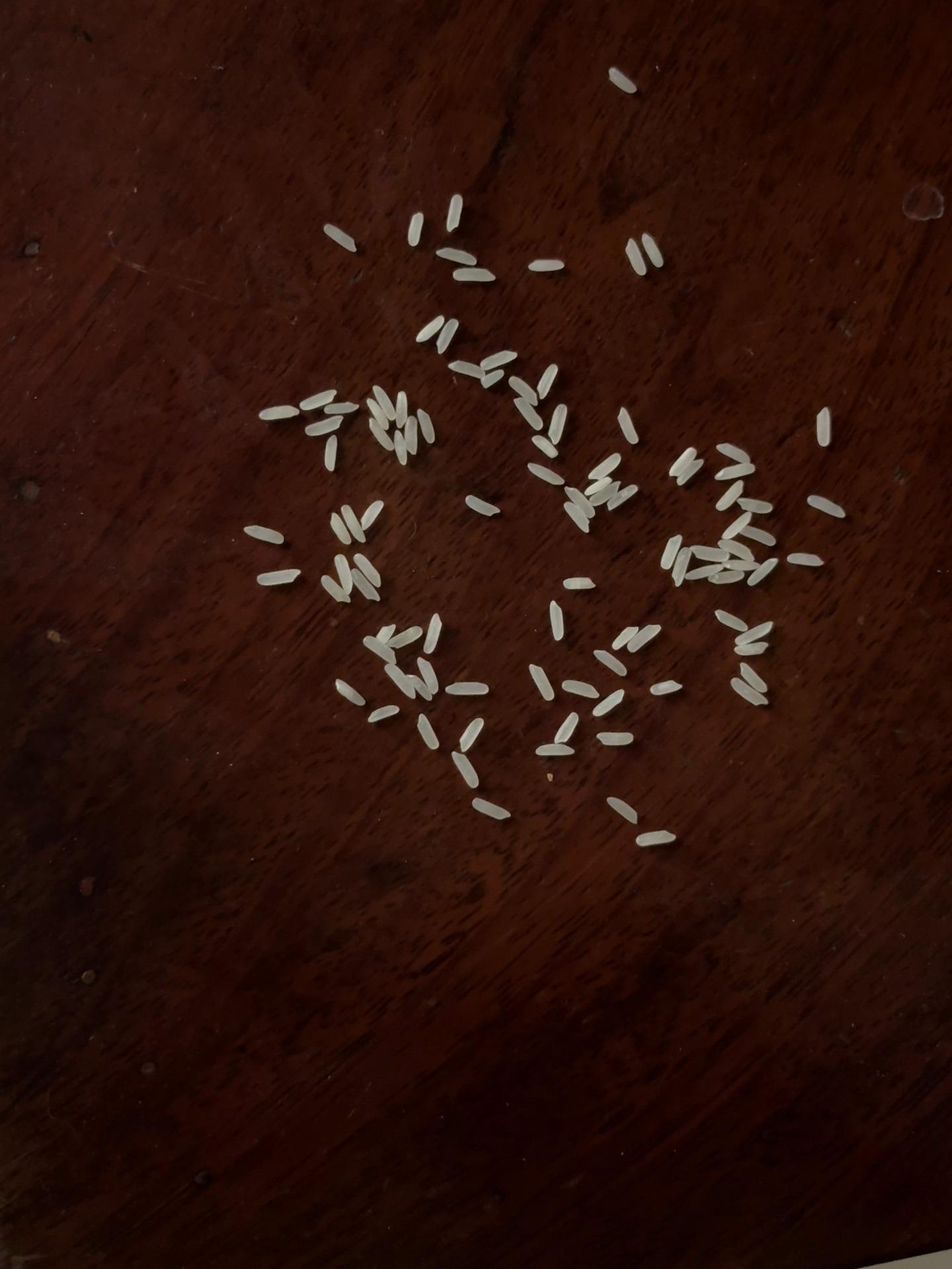Rice-th-y-nh: (384, 663, 417, 699), (451, 750, 480, 789), (730, 678, 768, 707), (513, 397, 544, 431), (350, 568, 381, 602), (626, 624, 662, 653), (362, 636, 398, 665), (564, 486, 596, 518), (353, 553, 382, 588), (340, 504, 366, 543), (457, 717, 485, 753), (332, 554, 356, 596), (421, 613, 445, 655), (670, 547, 695, 587), (546, 404, 571, 444), (528, 664, 555, 701), (587, 453, 622, 481), (593, 649, 628, 677), (544, 601, 569, 640), (715, 480, 745, 512), (734, 622, 774, 646), (591, 689, 625, 717), (323, 224, 357, 252), (416, 657, 441, 695), (807, 495, 846, 519), (508, 376, 539, 406), (738, 662, 768, 693), (720, 512, 752, 541), (589, 480, 621, 509), (606, 796, 639, 824), (606, 483, 639, 511), (372, 385, 397, 421), (659, 534, 684, 570), (747, 558, 778, 587), (320, 575, 351, 604), (471, 797, 510, 820), (334, 679, 366, 707), (367, 418, 394, 451), (552, 712, 579, 745), (624, 238, 648, 275), (527, 462, 565, 485), (668, 447, 697, 477), (562, 502, 590, 533), (719, 538, 755, 562), (305, 415, 344, 437), (444, 679, 489, 698), (616, 407, 639, 444), (675, 458, 705, 486), (416, 714, 440, 749), (562, 678, 600, 700), (387, 626, 423, 649), (244, 525, 285, 545), (436, 319, 459, 354), (536, 364, 559, 399), (634, 828, 676, 847), (366, 398, 390, 431), (416, 315, 445, 342), (608, 67, 637, 94), (436, 247, 477, 266), (300, 389, 337, 410), (465, 495, 500, 517), (642, 233, 664, 268), (716, 442, 751, 464), (715, 462, 755, 481), (714, 609, 747, 632), (407, 674, 434, 702), (257, 569, 301, 586), (685, 562, 724, 581), (329, 513, 352, 545), (692, 544, 730, 563), (360, 500, 384, 530), (449, 360, 486, 379), (480, 350, 517, 369), (612, 625, 639, 651), (402, 416, 420, 455), (416, 408, 436, 443), (258, 404, 299, 421), (742, 525, 775, 546), (737, 496, 773, 515), (446, 195, 464, 232), (391, 431, 410, 466), (815, 407, 832, 446), (453, 267, 496, 282), (597, 730, 634, 747), (367, 704, 400, 723), (536, 741, 575, 757), (532, 435, 559, 458), (734, 640, 769, 657), (787, 551, 824, 567), (649, 679, 683, 696), (724, 557, 760, 573), (708, 569, 744, 585), (323, 435, 339, 471), (407, 213, 424, 246), (584, 476, 612, 496), (394, 391, 409, 428), (324, 401, 359, 415), (528, 259, 564, 272), (481, 369, 504, 388), (376, 624, 397, 644), (564, 577, 595, 589)
